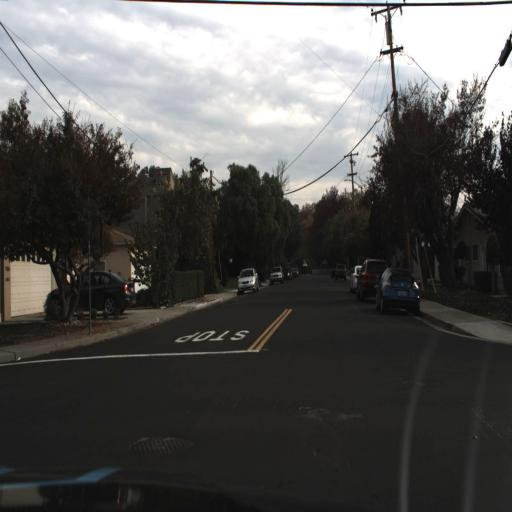car: (42, 268, 134, 318), (374, 267, 424, 319), (356, 259, 387, 302), (237, 263, 260, 294), (330, 260, 352, 287), (347, 259, 362, 295), (268, 263, 287, 288), (267, 263, 286, 286)
